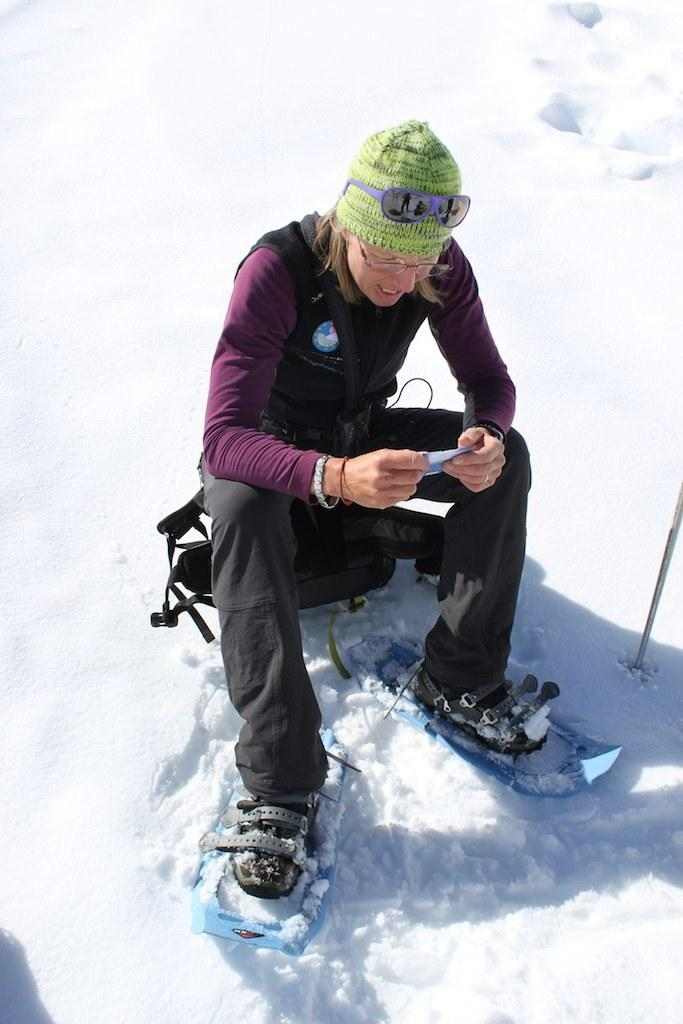Hat: (319, 117, 473, 261)
